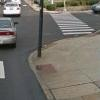Crosswalk: (49, 9, 94, 47)
